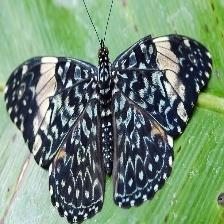butterfly: (5, 35, 212, 224)
